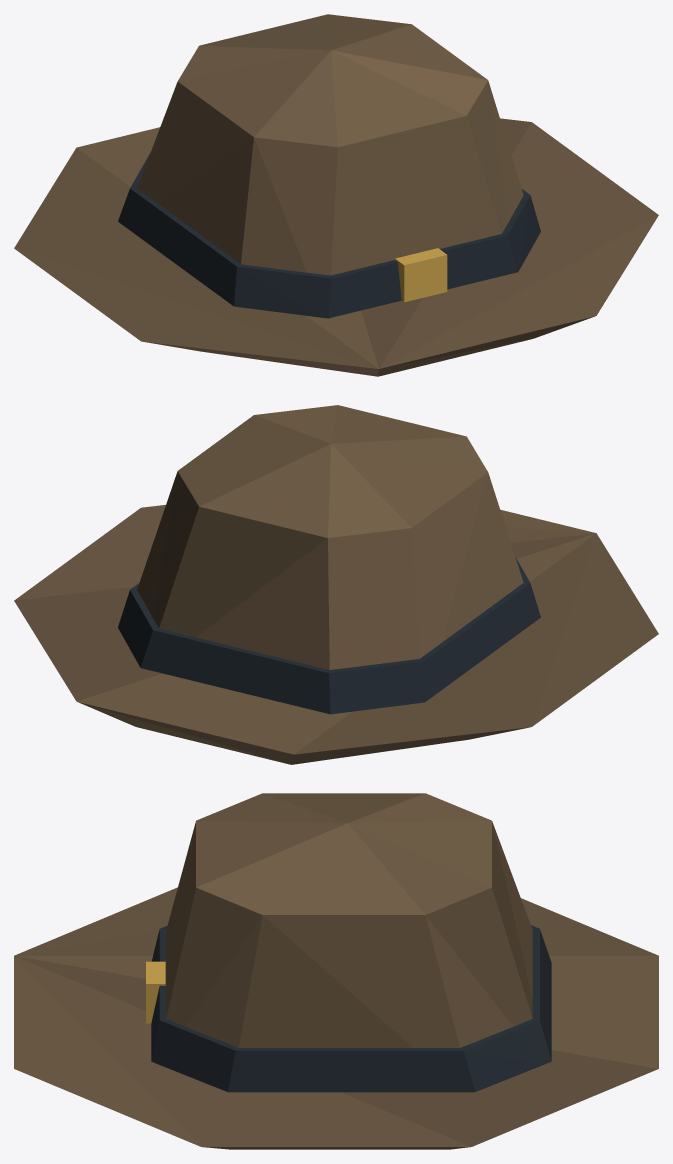
Rendered from sombrero.fbx.
3 renders of one model, top to bottom at view 1: azimuth 30°, elevation 25°; view 2: azimuth 150°, elevation 25°; view 3: azimuth 270°, elevation 25°, orthographic. The views are drawn at different scales.
Parts seen in each view (by area): view 1: sombrero; view 2: sombrero; view 3: sombrero.
Boxes of the visible parts, x1,y1,x2,y2 form: sombrero: (14,14,658,376); sombrero: (14,405,658,764); sombrero: (14,793,658,1149).
Bounding box in the file's own units: 0.5108 × 0.2037 × 0.5169.
1 material, 1 textured.
